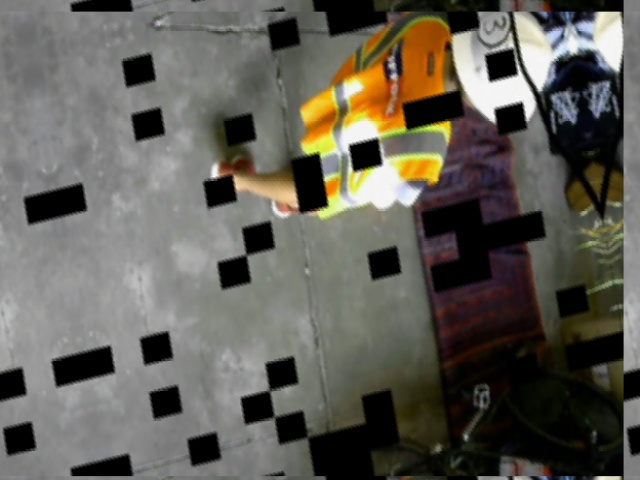three: (473, 6, 514, 49)
